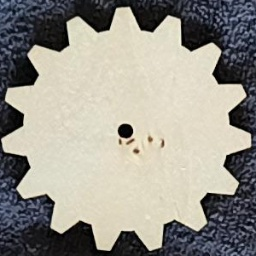Points: (130, 147, 142, 156), (159, 138, 167, 149), (125, 138, 136, 146), (146, 135, 154, 143), (117, 138, 123, 146)
